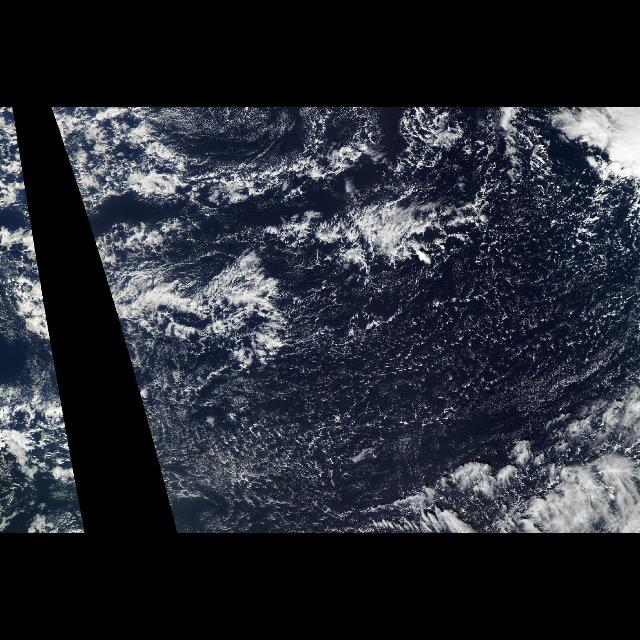Fish: (52, 113, 512, 404), (2, 113, 64, 404)
Gravel: (202, 246, 638, 502)
Sugar: (140, 342, 438, 506), (443, 156, 637, 382)
